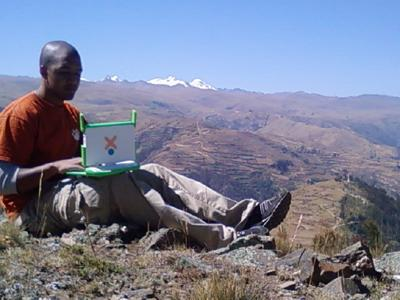person: (2, 41, 294, 254)
